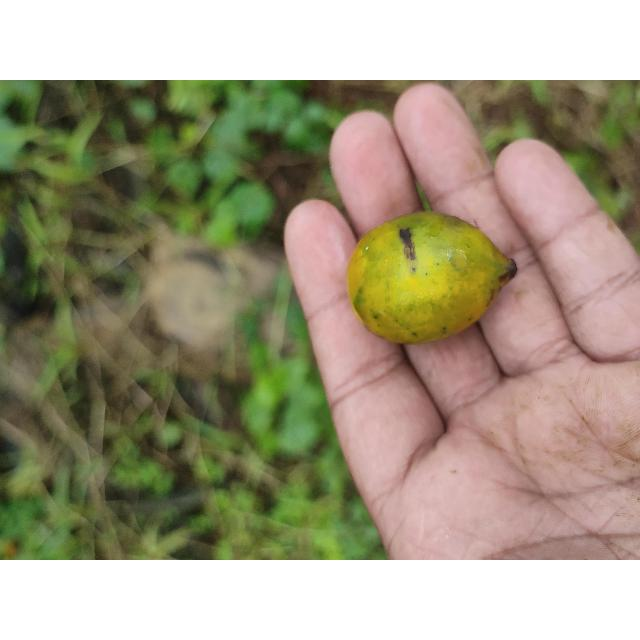good: (345, 210, 518, 346)
